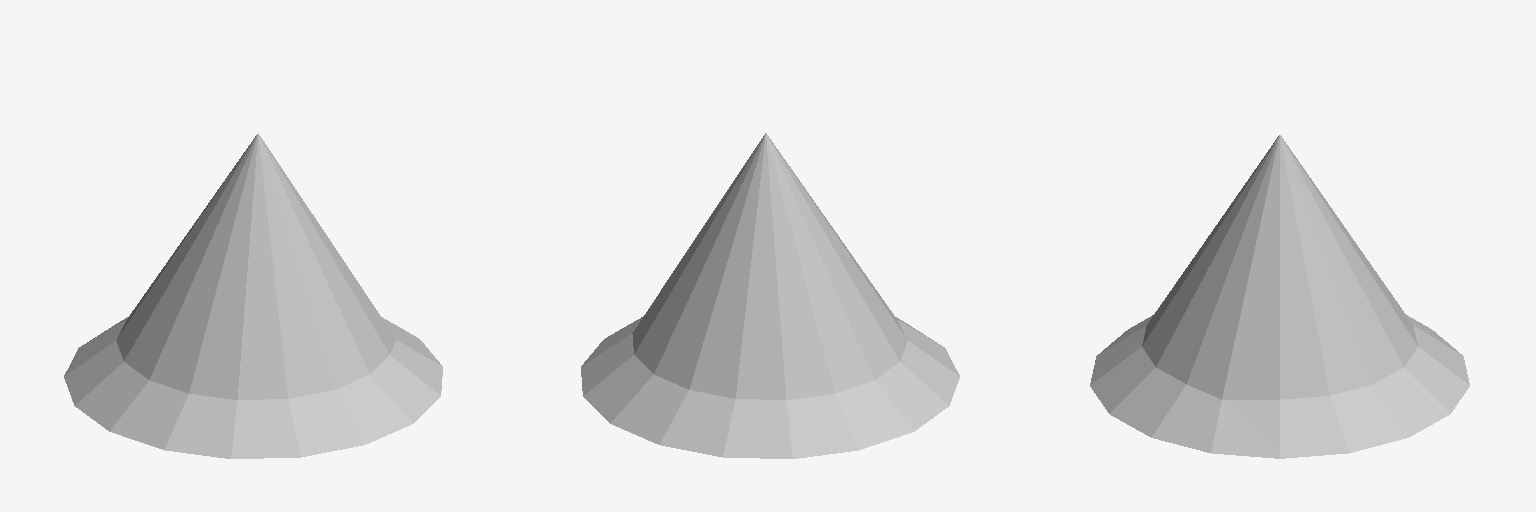
3 views of the same model, side by side, from view 1: azimuth 30°, elevation 25°; view 2: azimuth 150°, elevation 25°; view 3: azimuth 270°, elevation 25° (orthographic).
Parts seen in each view (by area): view 1: CUPIC_ROCKETSHIP; view 2: CUPIC_ROCKETSHIP; view 3: CUPIC_ROCKETSHIP.
Part boxes in pixels (x1,y1,x2,y2): CUPIC_ROCKETSHIP: (64,133,442,458); CUPIC_ROCKETSHIP: (581,133,959,458); CUPIC_ROCKETSHIP: (1090,135,1469,458).
Bounding box in the file's own units: 7.6 × 5.45 × 7.64.